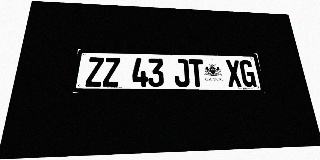3: (148, 58, 164, 87)
4: (132, 58, 148, 87)
G: (239, 60, 257, 87)
J: (174, 59, 190, 87)
T: (188, 59, 205, 87)
X: (225, 60, 243, 87)
Z: (85, 57, 104, 87), (102, 57, 120, 87)
